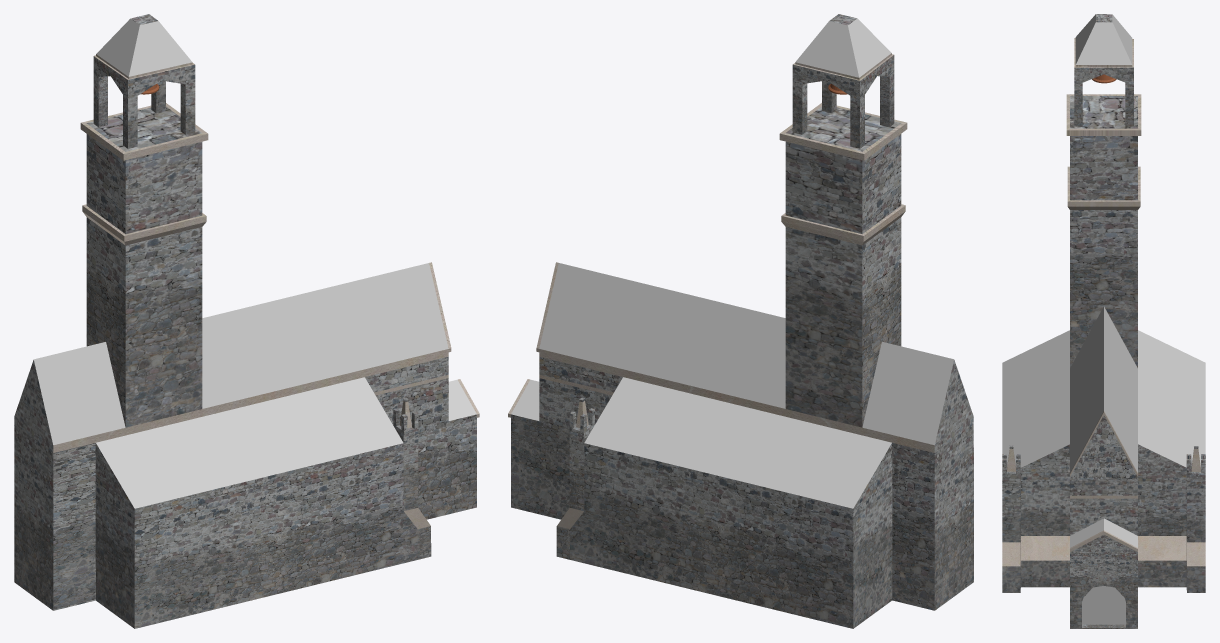
File: Igrejaexterna.fbx
3 views of the same model, side by side, from view 1: azimuth 30°, elevation 25°; view 2: azimuth 150°, elevation 25°; view 3: azimuth 270°, elevation 25° (orthographic). The views are drawn at different scales.
Visible parts, largest first — view 1: Cube; view 2: Cube; view 3: Cube.
Boxes of the visible parts, x1,y1,x2,y2 form: Cube: (14, 14, 479, 628); Cube: (508, 14, 973, 628); Cube: (1002, 14, 1205, 628).
Size of the model in its own units: 3831 by 4721 by 1820.
